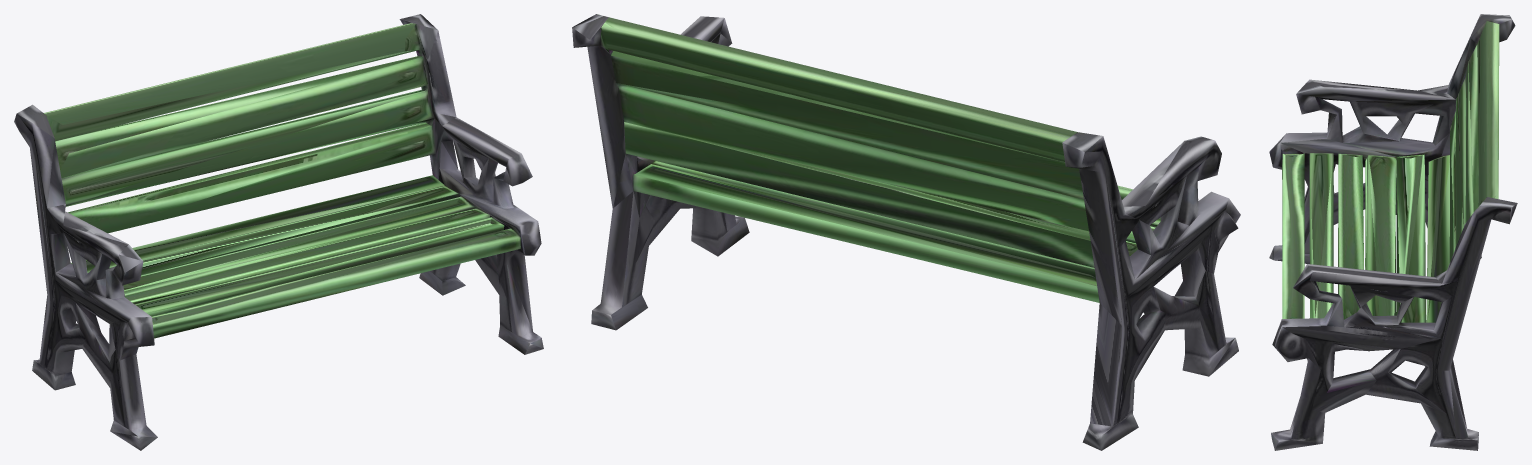
Rendered from bench.glb.
3 views of the same model, side by side, from view 1: azimuth 30°, elevation 25°; view 2: azimuth 150°, elevation 25°; view 3: azimuth 270°, elevation 25° (orthographic). The views are drawn at different scales.
Parts seen in each view (by area): view 1: SM_bench; view 2: SM_bench; view 3: SM_bench.
Part boxes in pixels (box(x1,y1,x2,y2)): SM_bench: box(14, 14, 543, 450); SM_bench: box(572, 14, 1240, 450); SM_bench: box(1269, 14, 1517, 450).
Bounding box in the file's own units: 1.64 × 0.95 × 0.87.
Materials: 1 (1 with a texture image).
